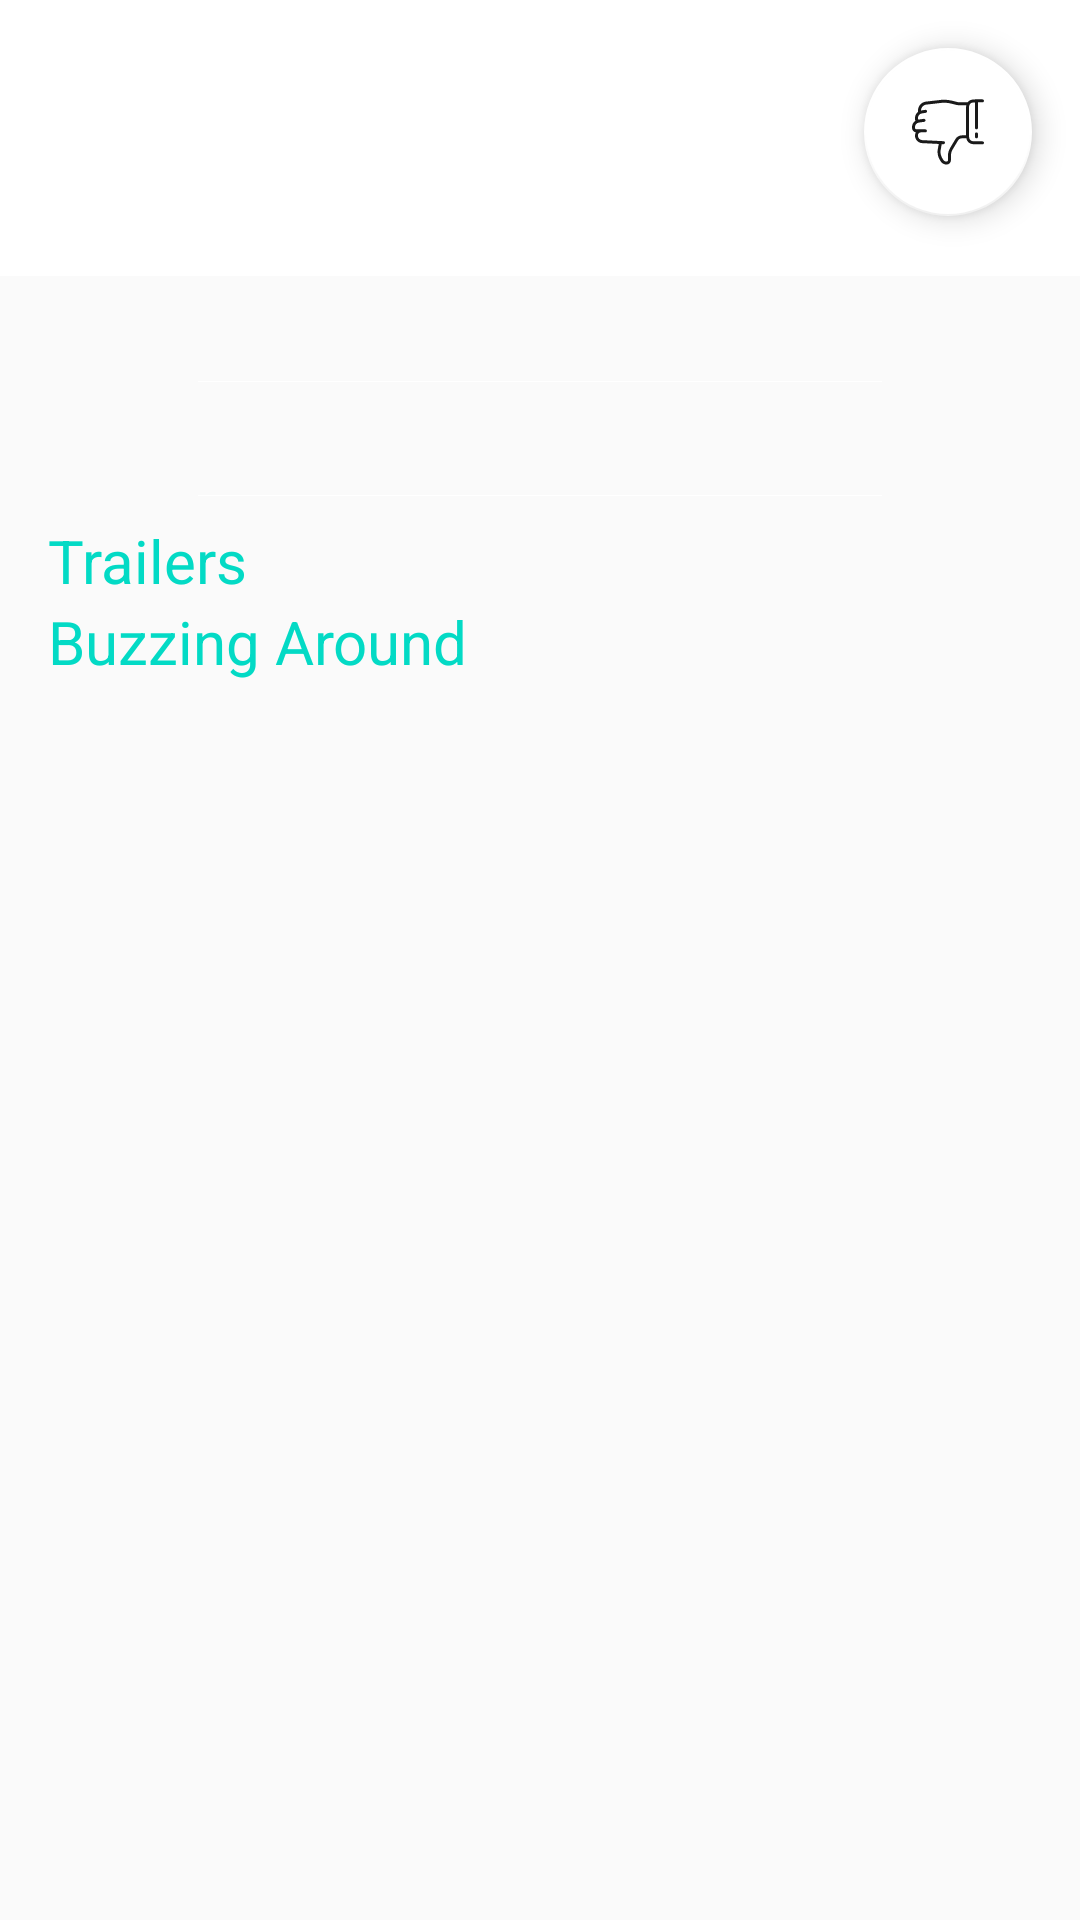

Icons on this 1080w x 1920h Android screen, each with its box as [x1,y1,x2,y2]:
thumb down: [912,61,1032,216]
